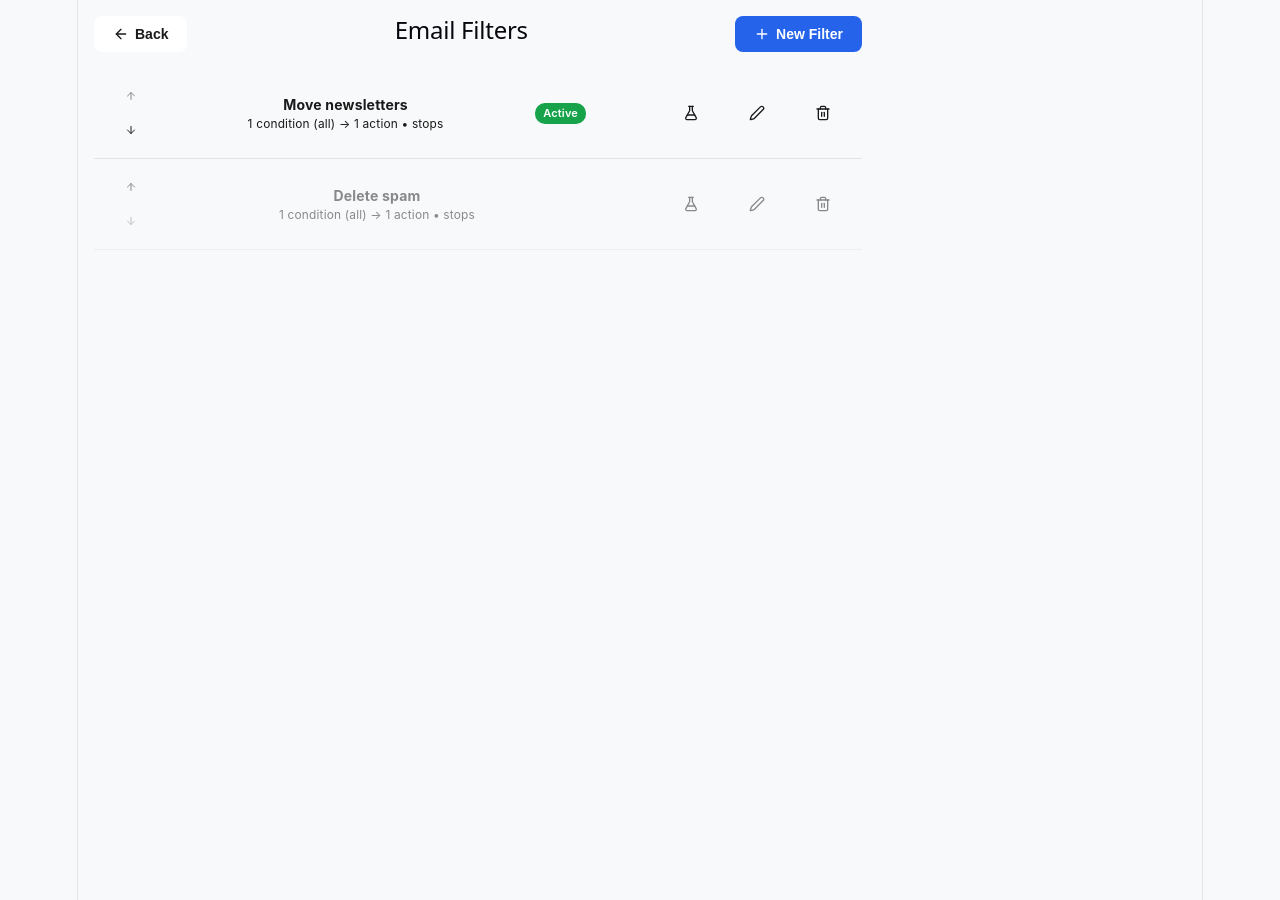
Test: FilterManager › renders back button to return to filters list from editor
Expected: the text "Move newsletters" is shown, [283,96,408,113]
Click the button "New Filter": click(799, 34) [735,16,862,52]
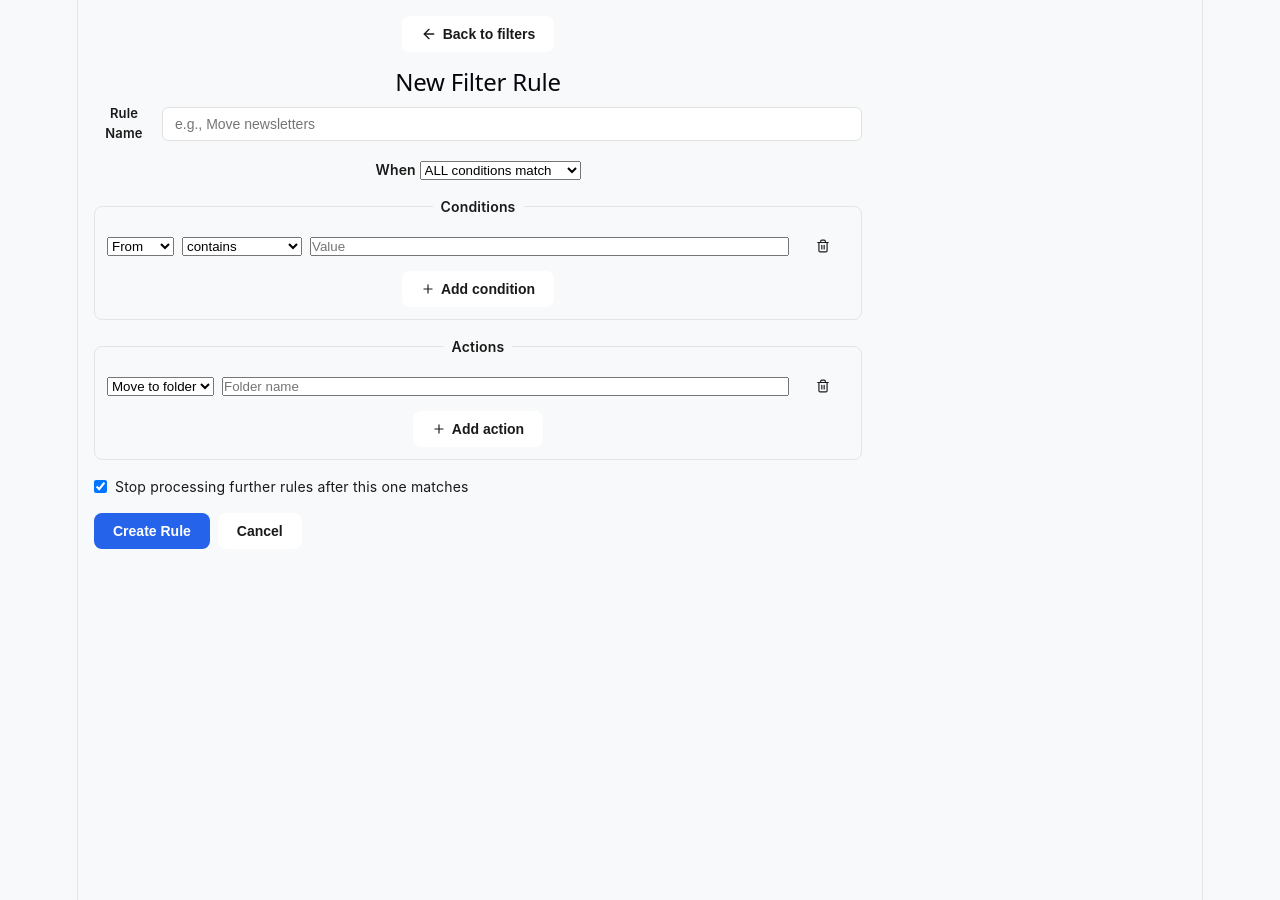
Expected: the button "Back to filters" is shown
Click the button "Back to filters": click(478, 34) [402,16,554,52]
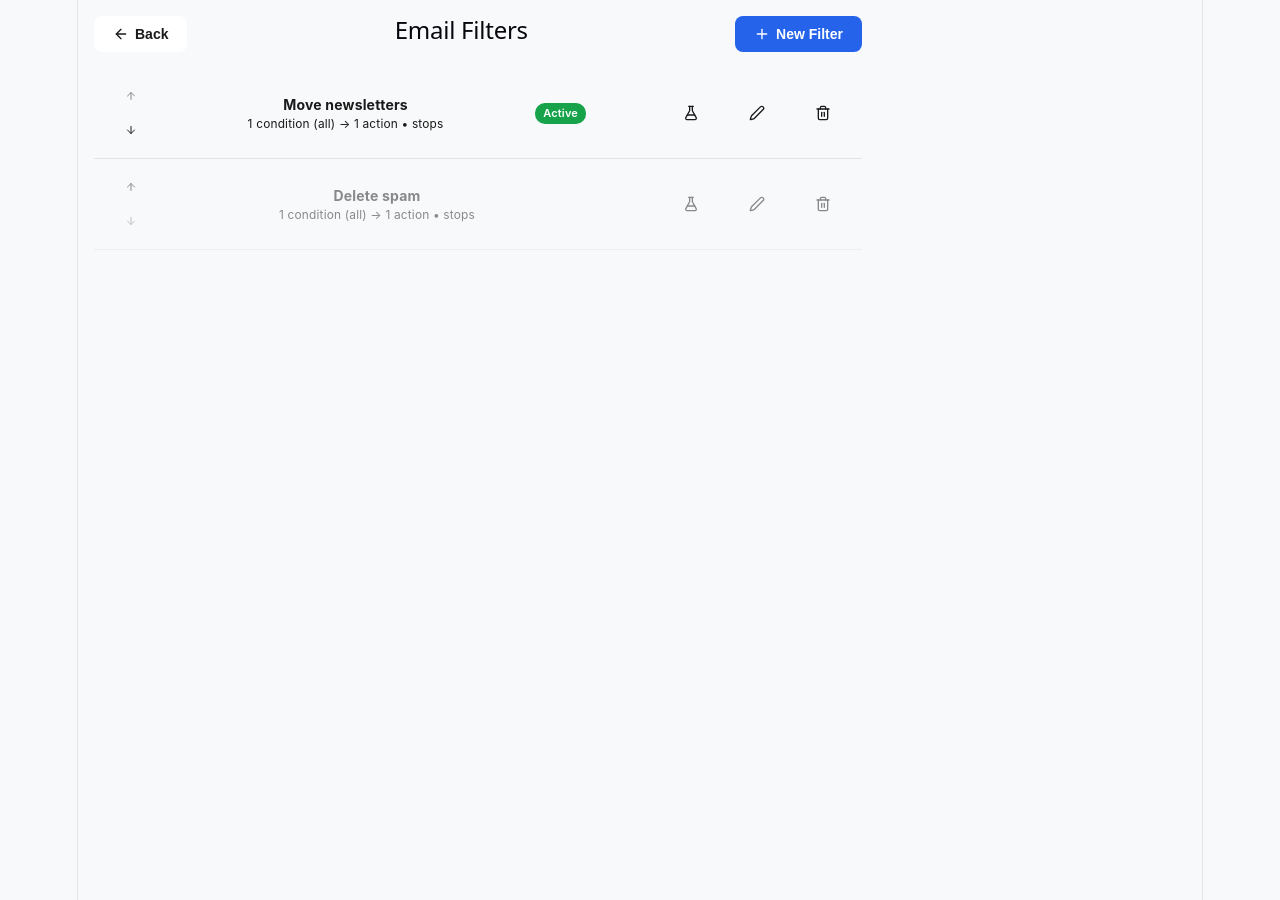
Expected: the text "Move newsletters" is shown, [283,96,408,113]
